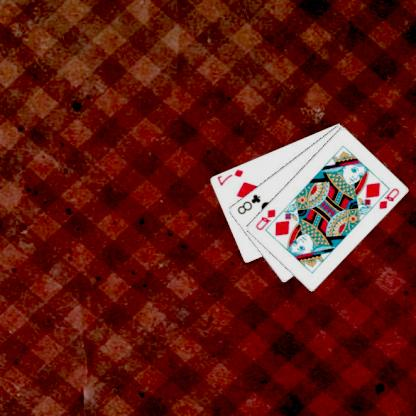7D: (216, 167, 246, 187)
8C: (236, 191, 264, 216)
QD: (254, 206, 278, 232), (378, 184, 402, 210)
